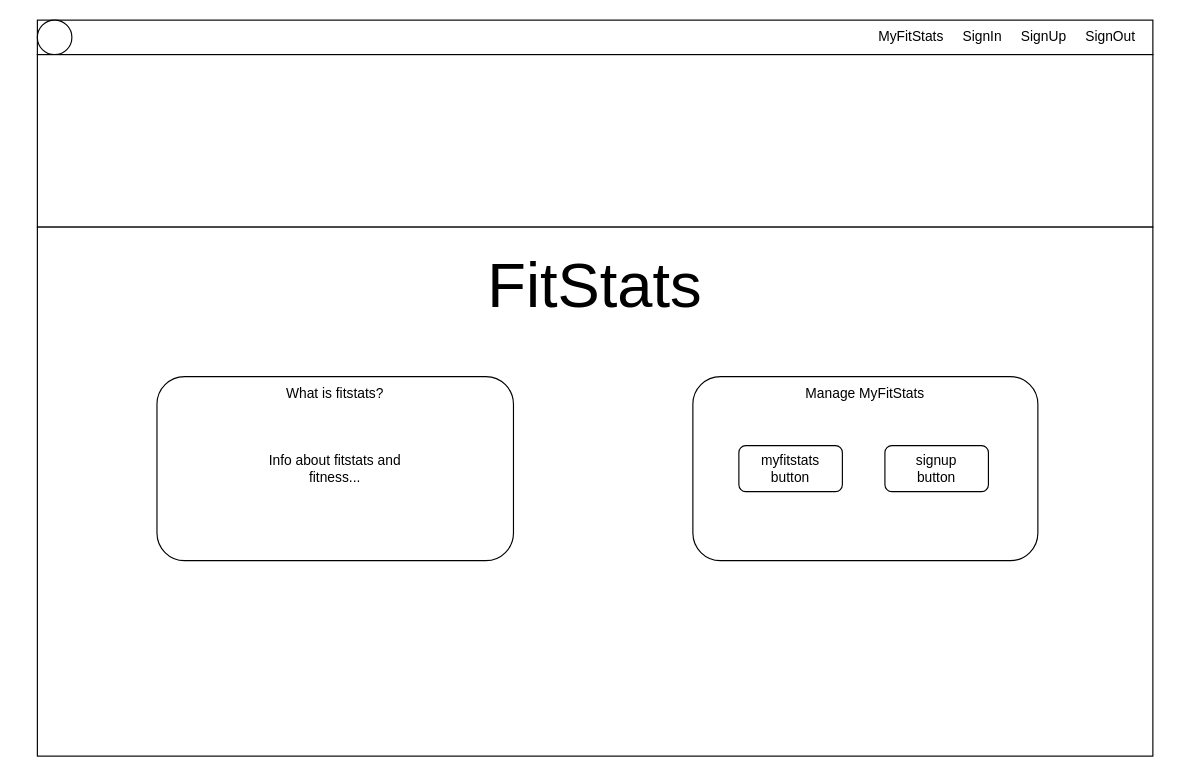
Image size: 1195x776. Some labels were removed from this diagram. Here are the shapes that lost their labels. From the top down, the centre of each, then its label:
At [54,37]: "Logo".
At [594,140]: "fitness image".
